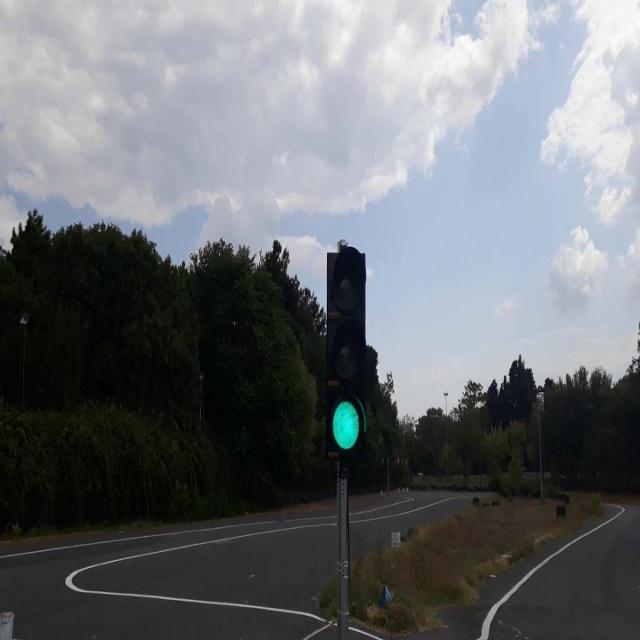yesil: (325, 250, 365, 455)
